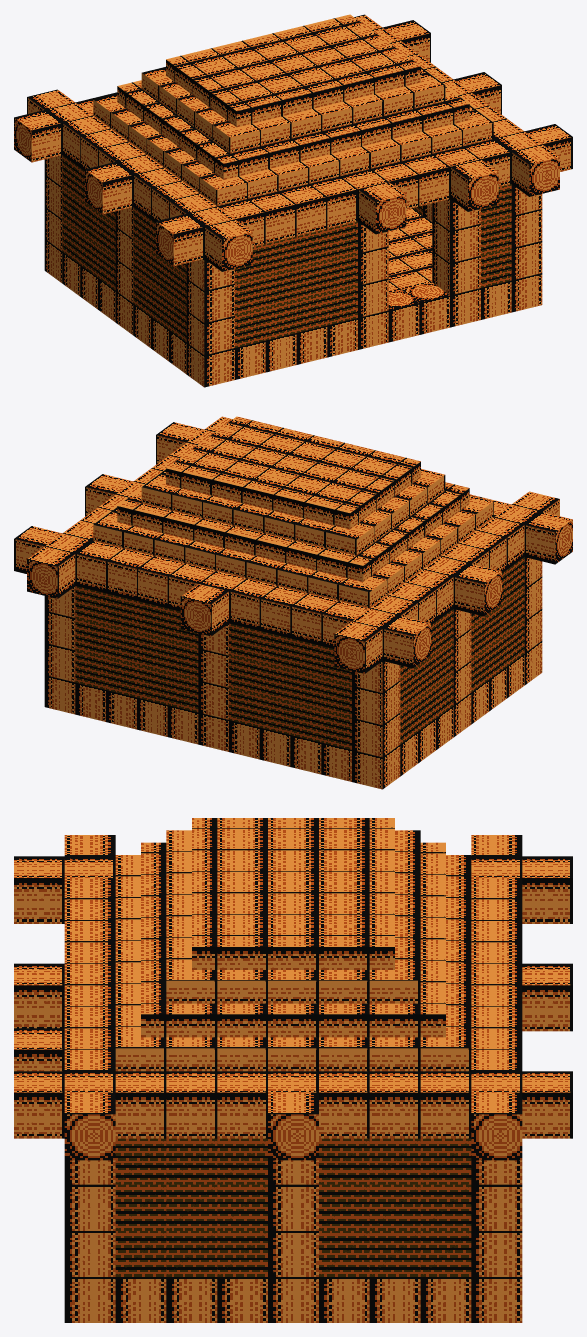
Rendered from house_small_a.fbx.
3 renders of one model, top to bottom at view 1: azimuth 30°, elevation 25°; view 2: azimuth 150°, elevation 25°; view 3: azimuth 270°, elevation 25°, orthographic. The views are drawn at different scales.
Parts seen in each view (by area): view 1: New_World__22_-60_-46_to_34_319_-36; view 2: New_World__22_-60_-46_to_34_319_-36; view 3: New_World__22_-60_-46_to_34_319_-36.
Boxes of the visible parts, x1,y1,x2,y2 form: New_World__22_-60_-46_to_34_319_-36: (14, 14, 572, 387); New_World__22_-60_-46_to_34_319_-36: (14, 416, 572, 789); New_World__22_-60_-46_to_34_319_-36: (14, 818, 572, 1322).
Bounding box in the file's own units: 1300 × 700 × 1100.
